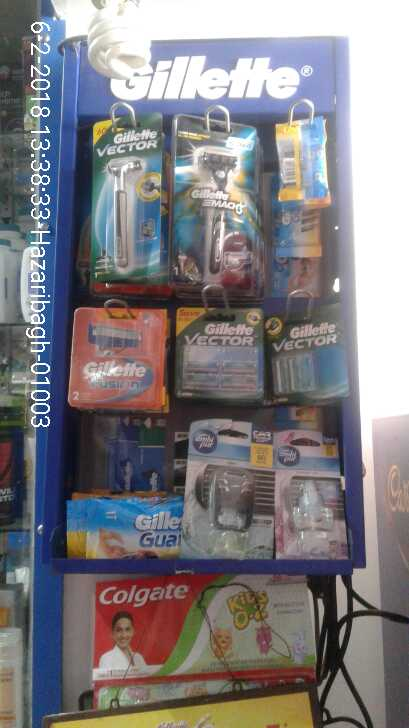beauty: (169, 113, 259, 293), (87, 116, 162, 274), (70, 307, 169, 414), (172, 302, 264, 401), (66, 493, 182, 562), (265, 319, 350, 402), (275, 120, 333, 202)
home: (189, 422, 281, 565), (276, 444, 351, 561)
